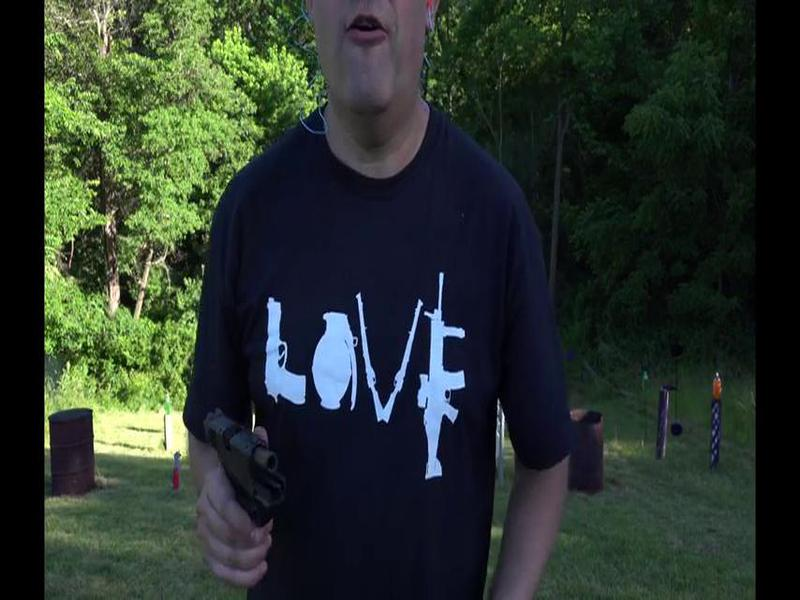Pistola: (192, 403, 301, 554)
